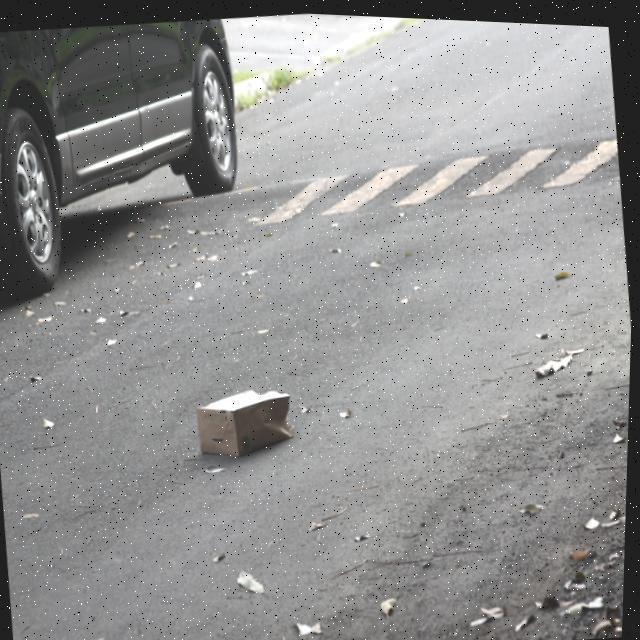Paper_Bag: (196, 380, 300, 461)
